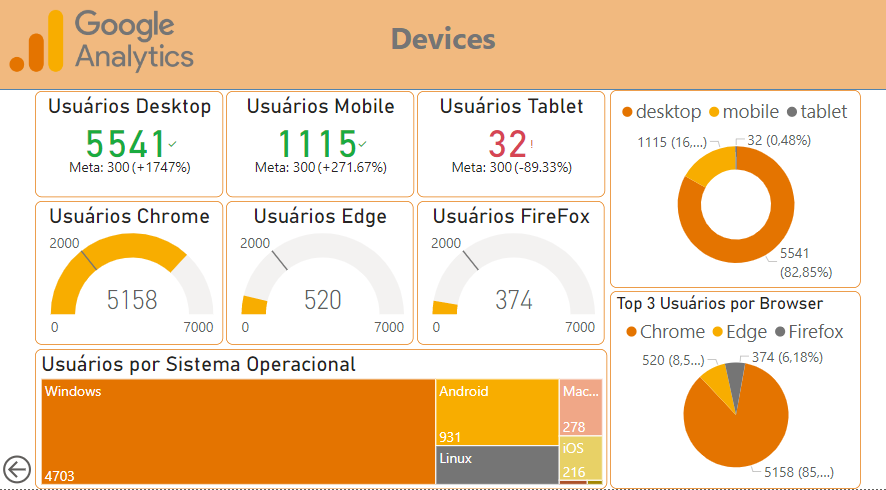

Layout of this report page (visuals, bound fields, positions):
{"tool":"powerbi","page":{"name":"Devices","canvas":[1280,720],"ordinal":4},"visuals":[{"type":"shape","box":[0,14.4,1280.2,131],"z":0},{"type":"kpi","title":"Usuários Desktop","fields":{"Indicator":["Sum(devices.ga_users)"],"Goal":["Max(devices.meta)"],"TrendLine":["devices.view_id"]},"box":[51.8,146.9,270.7,152.6],"z":1000},{"type":"kpi","title":"Usuários Mobile","fields":{"Indicator":["Sum(devices.ga_users)"],"Goal":["Max(devices.meta)"],"TrendLine":["devices.meta"]},"box":[326.9,146.9,270.7,152.6],"z":2000},{"type":"kpi","title":"Usuários Tablet","fields":{"Indicator":["Sum(devices.ga_users)"],"Goal":["Max(devices.meta)"],"TrendLine":["devices.meta"]},"box":[601.9,146.9,270.7,152.6],"z":3000},{"type":"donutChart","fields":{"Y":["Sum(devices.ga_users)"],"Category":["devices.ga_devicecategory"]},"box":[879.8,145.4,361.4,285.1],"z":4000},{"type":"gauge","title":"Usuários Chrome","fields":{"Y":["Sum(devices.ga_users)"]},"box":[51.8,305.3,270.7,207.4],"z":5000},{"type":"gauge","title":"Usuários Edge","fields":{"Y":["Sum(devices.ga_users)"]},"box":[327.2,305.5,270,207.4],"z":6000},{"type":"gauge","title":"Usuários FireFox","fields":{"Y":["Sum(devices.ga_users)"]},"box":[601.9,305.3,270,207.4],"z":7000},{"type":"pieChart","title":"Top 3 Usuários por Browser","fields":{"Y":["Sum(devices.ga_users)"],"Category":["devices.ga_browser"]},"box":[879.8,434.9,361.4,285.1],"z":8000},{"type":"treemap","title":"Usuários por Sistema Operacional","fields":{"Values":["Sum(devices.ga_users)"],"Group":["devices.ga_operatingsystem"]},"box":[51.8,518.4,823.7,201.6],"z":9000},{"type":"textbox","box":[521.3,36,234.7,77.8],"z":10000},{"type":"image","box":[10,10,275,131],"z":11000},{"type":"actionButton","box":[0,663.8,51.8,56.2],"z":12000}]}

Visuals, with their boxes in screenshot pixels (x1, y1, x2, y2), scaled from the page's 1280x720 canvas onto the 886x490 screenshot:
shape: [0, 10, 885, 99]
"Usuários Desktop" kpi: [36, 100, 223, 204]
"Usuários Mobile" kpi: [226, 100, 414, 204]
"Usuários Tablet" kpi: [417, 100, 604, 204]
donutChart - Sum(devices.ga_users) x devices.ga_devicecategory: [609, 99, 859, 293]
"Usuários Chrome" gauge: [36, 208, 223, 349]
"Usuários Edge" gauge: [226, 208, 413, 349]
"Usuários FireFox" gauge: [417, 208, 604, 349]
"Top 3 Usuários por Browser" pieChart: [609, 296, 859, 489]
"Usuários por Sistema Operacional" treemap: [36, 353, 606, 489]
textbox: [361, 24, 523, 77]
image: [7, 7, 197, 96]
actionButton: [0, 452, 36, 489]
